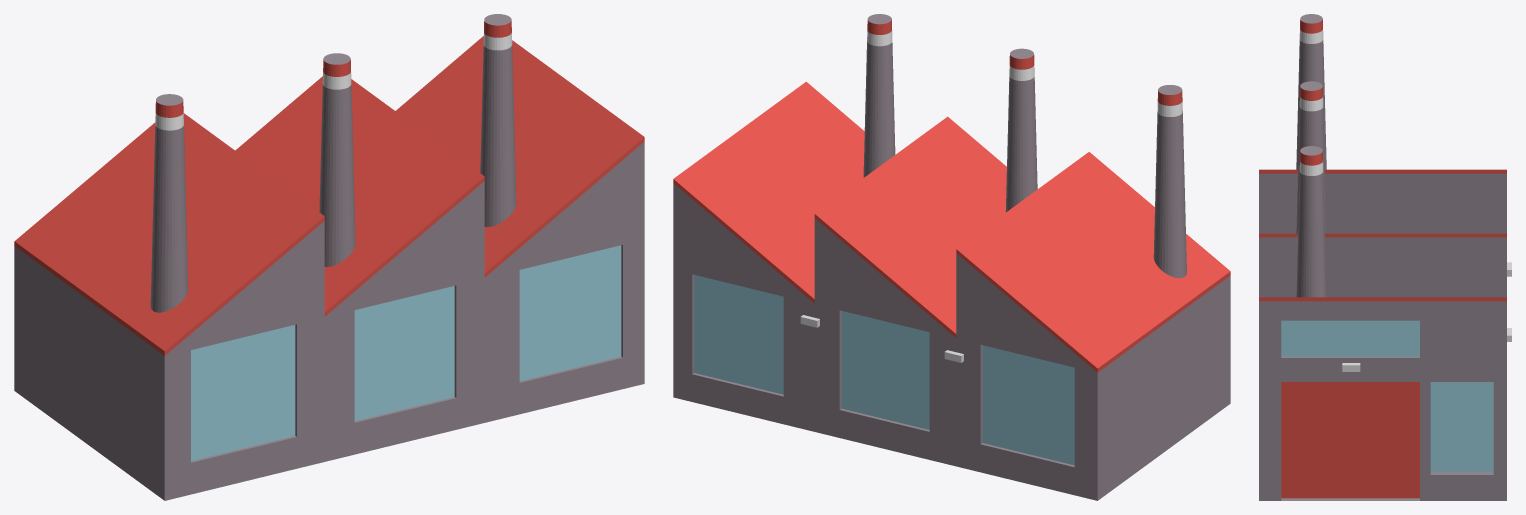
File: Factory.fbx
3 renders of one model, left to right at view 1: azimuth 30°, elevation 25°; view 2: azimuth 150°, elevation 25°; view 3: azimuth 270°, elevation 25°, orthographic. The views are drawn at different scales.
Visible parts, largest first — view 1: Cube, Cylinder.003, Cylinder.002, Cylinder.001; view 2: Cube, Cylinder.003, Cylinder.001, Cylinder.002; view 3: Cube, Cylinder.002, Cylinder.003, Cylinder.001.
Part boxes in pixels (x1=…): Cube: x1=14, y1=36, x2=644, y2=500; Cylinder.003: x1=150, y1=94, x2=188, y2=312; Cylinder.002: x1=480, y1=14, x2=516, y2=226; Cylinder.001: x1=319, y1=53, x2=355, y2=266; Cube: x1=673, y1=81, x2=1230, y2=500; Cylinder.003: x1=1153, y1=85, x2=1186, y2=278; Cylinder.001: x1=1005, y1=48, x2=1037, y2=212; Cylinder.002: x1=863, y1=14, x2=895, y2=177; Cube: x1=1259, y1=169, x2=1506, y2=500; Cylinder.002: x1=1296, y1=146, x2=1326, y2=297; Cylinder.003: x1=1296, y1=14, x2=1326, y2=169; Cylinder.001: x1=1296, y1=81, x2=1326, y2=233.
Size of the model in its own units: 7003 by 5086 by 3832.
